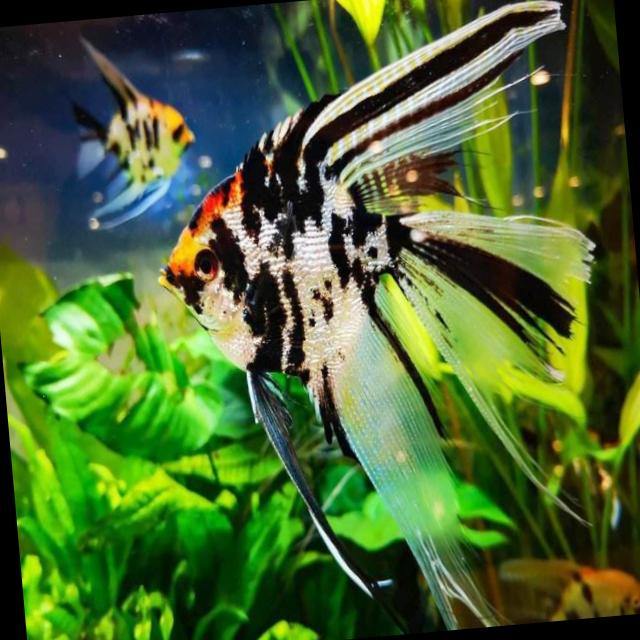AngelFish: (135, 2, 627, 626), (51, 29, 200, 230)
